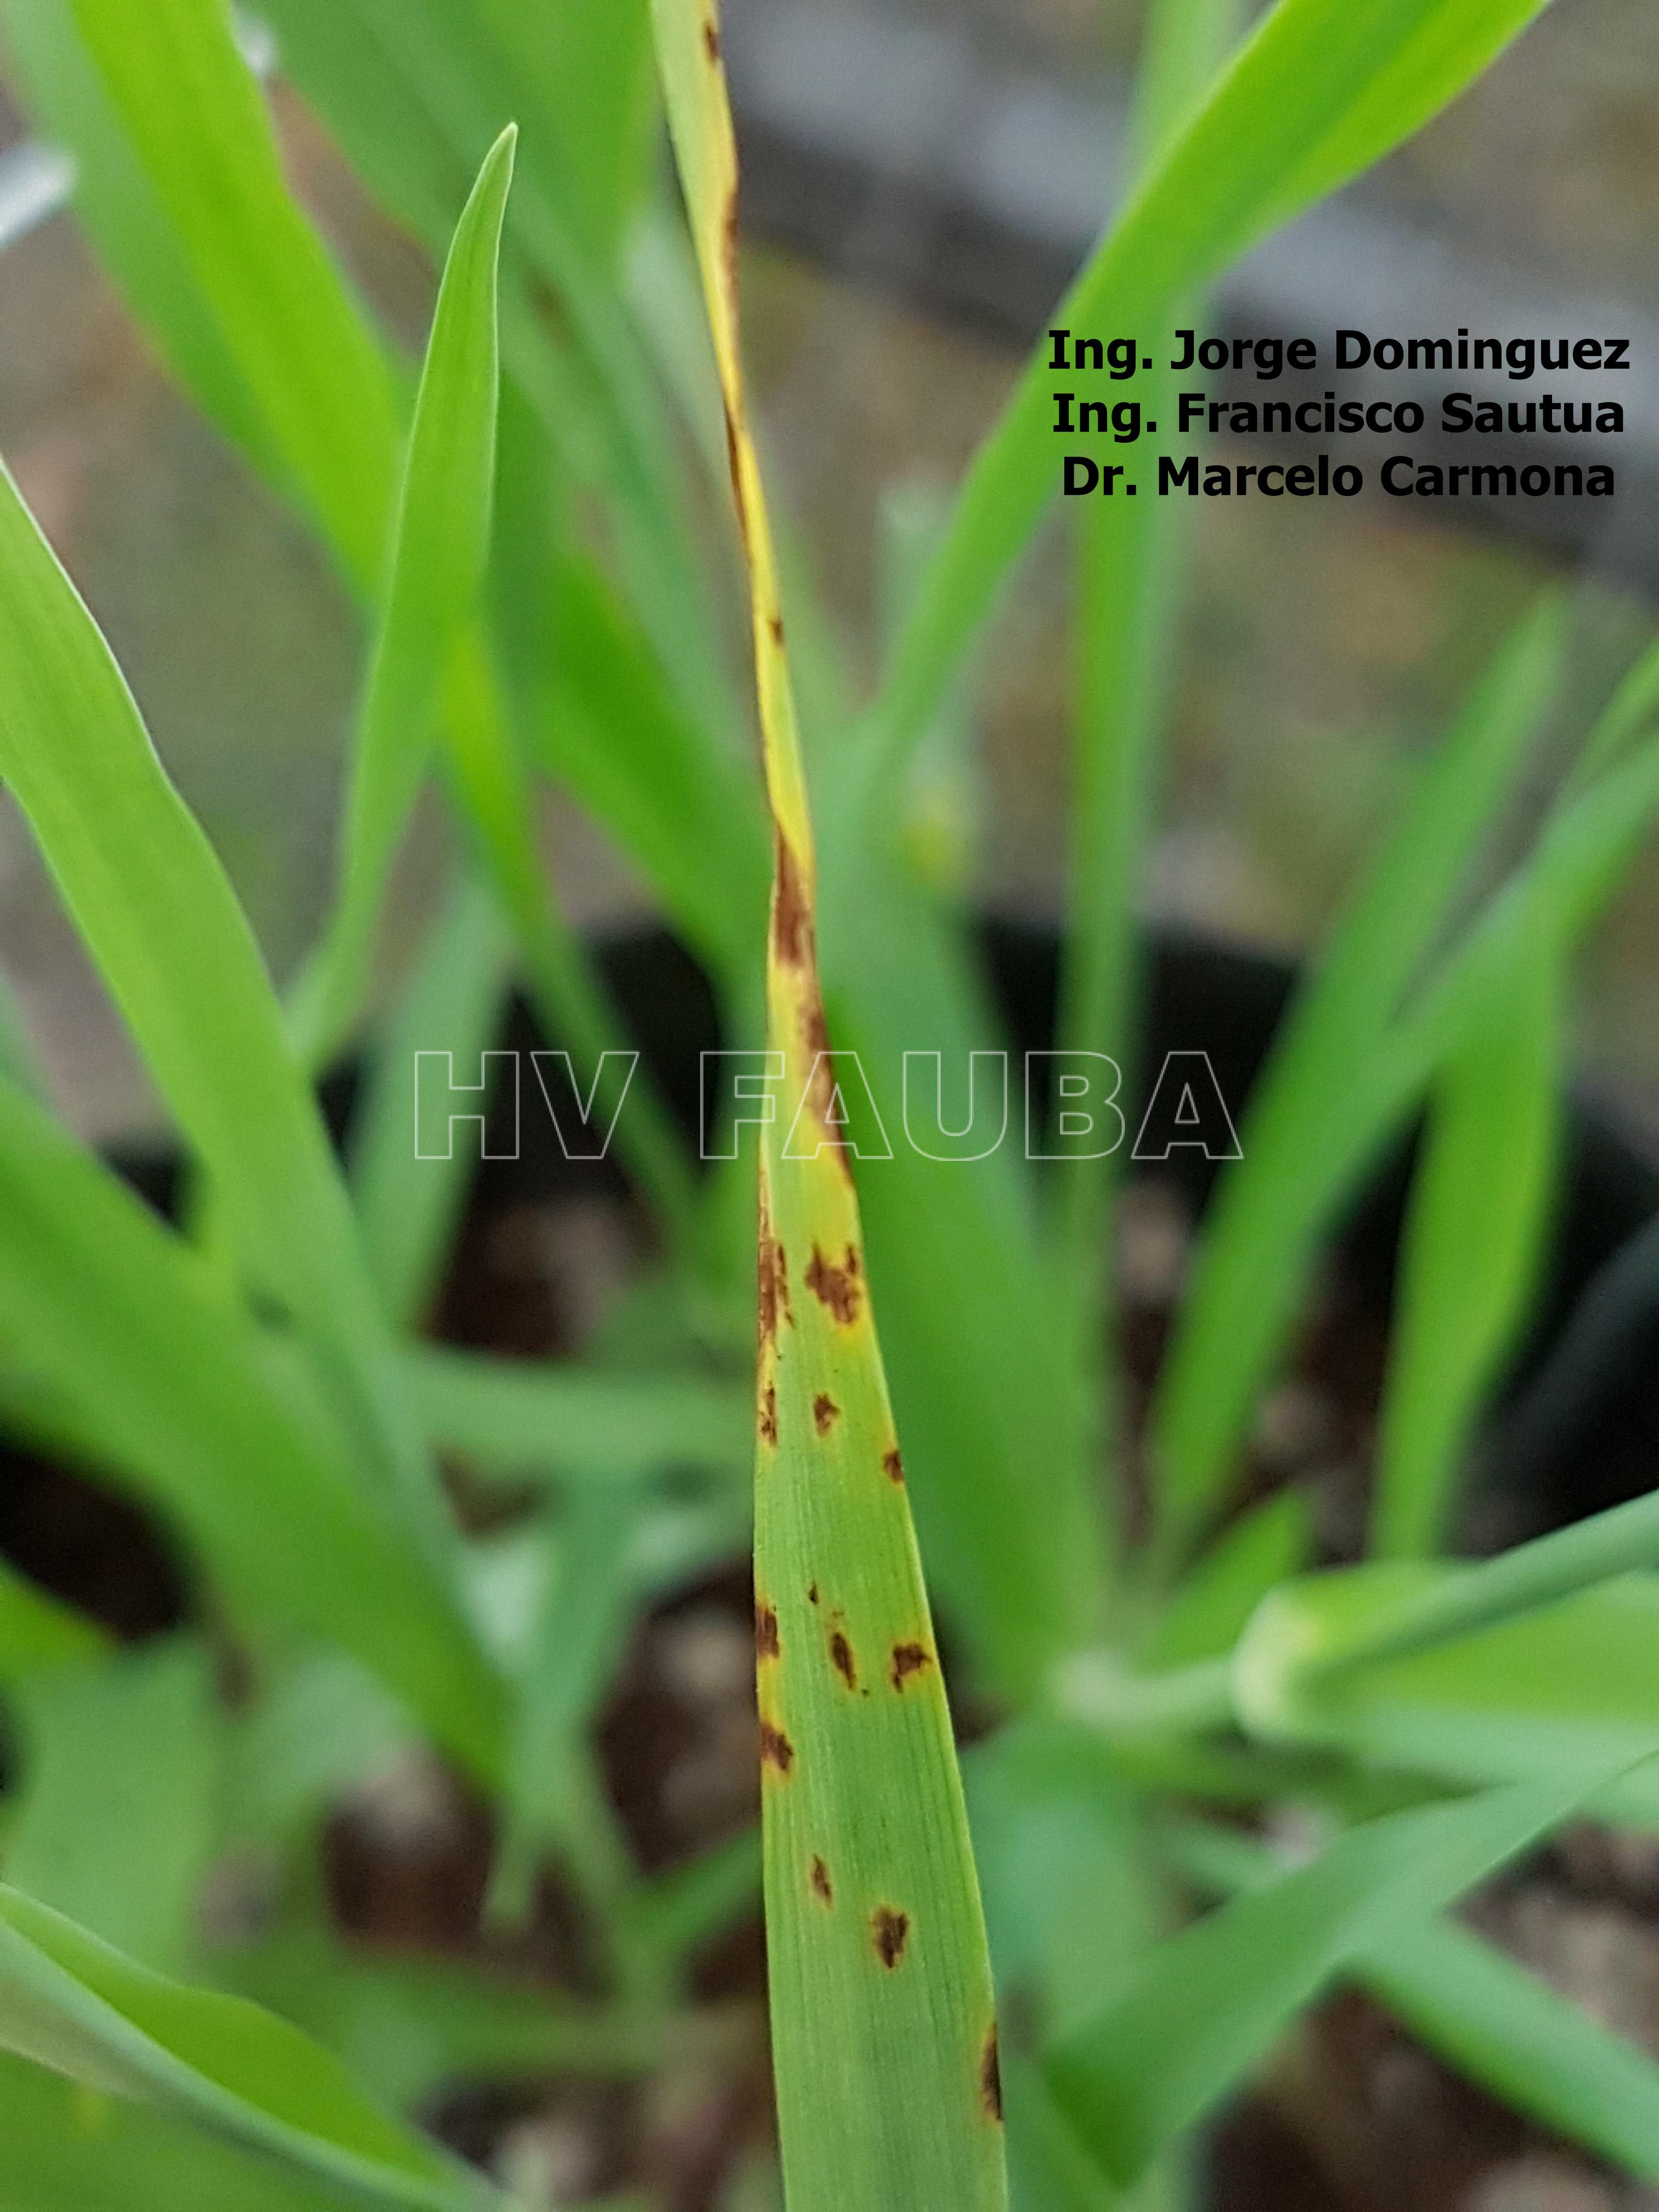Bercak Coklat: (760, 829, 826, 974), (800, 1226, 873, 1338), (882, 1630, 938, 1698), (866, 1898, 918, 1966), (972, 2024, 1002, 2137), (746, 1383, 788, 1453), (749, 1595, 786, 1672), (803, 1381, 845, 1447), (756, 1716, 800, 1778), (802, 1850, 843, 1914), (823, 1627, 859, 1696), (694, 19, 727, 70), (877, 1442, 913, 1487), (765, 611, 795, 644), (795, 1576, 830, 1604)
